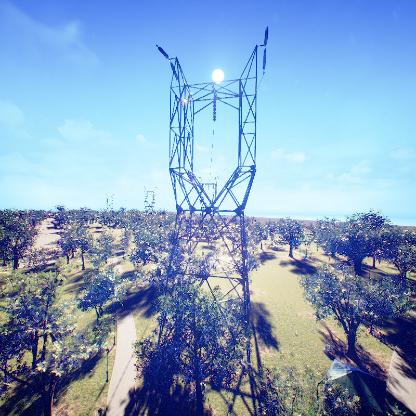tower: (150, 24, 267, 408)
